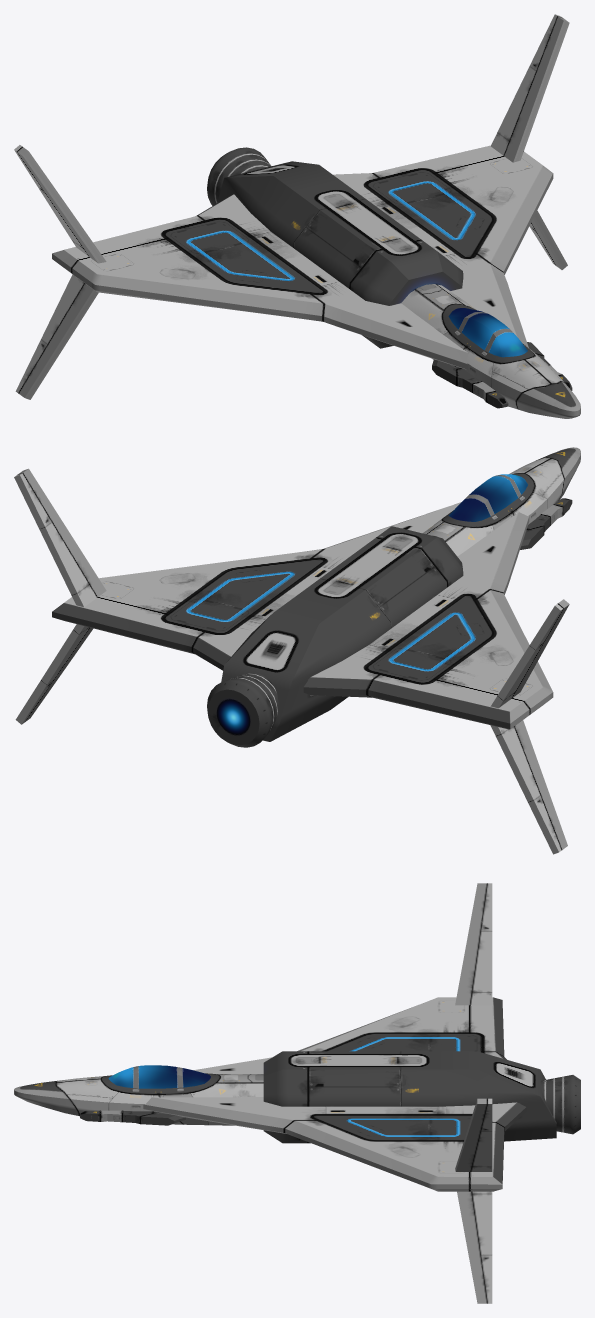
The model's file is Player.fbx.
The picture shows the model from 3 angles, top to bottom: view 1: azimuth 30°, elevation 25°; view 2: azimuth 150°, elevation 25°; view 3: azimuth 270°, elevation 25°; orthographic projection. The views are drawn at different scales.
Visible parts, largest first — view 1: StarSparrow8; view 2: StarSparrow8; view 3: StarSparrow8.
Part boxes in pixels (x1,y1,x2,y2): StarSparrow8: (14, 14, 580, 418); StarSparrow8: (14, 447, 580, 854); StarSparrow8: (14, 883, 580, 1303).
Size of the model in its own units: 1201 by 523 by 1307.
1 material, 1 textured.
